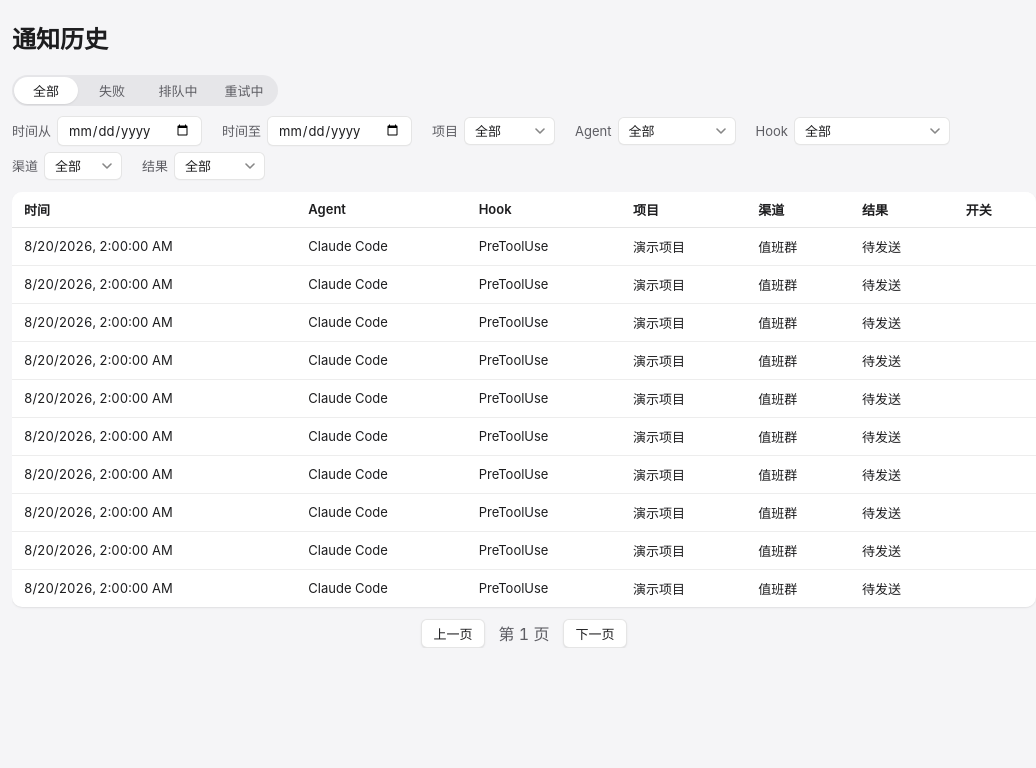
Test case: pagination pages through results with prev/next
Expected: the text "第 1 页" is shown, [498,621,550,645]
Expected: the button "上一页" is disabled, [422,619,484,648]
Step 1. Click the button "下一页" → click(595, 633), box [564,619,626,648]
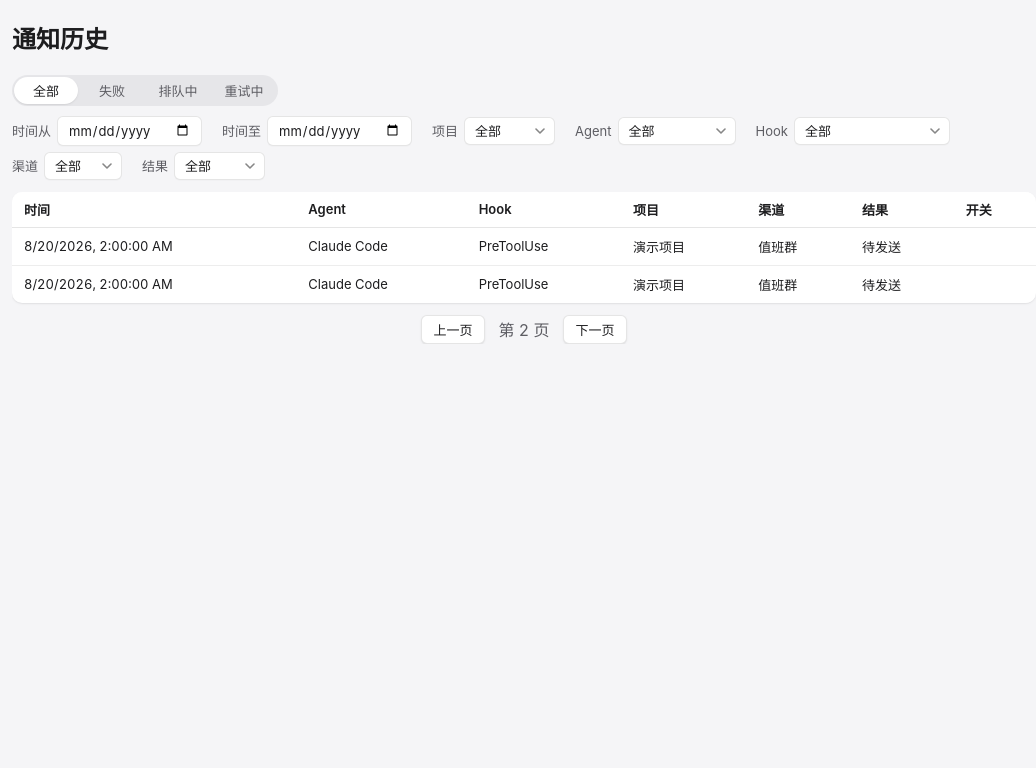
Expected: the text "第 2 页" is shown, [498,317,550,341]
Expected: the button "下一页" is disabled, [564,315,626,344]
Step 2. Click the button "上一页" → click(453, 329), box [422,315,484,344]
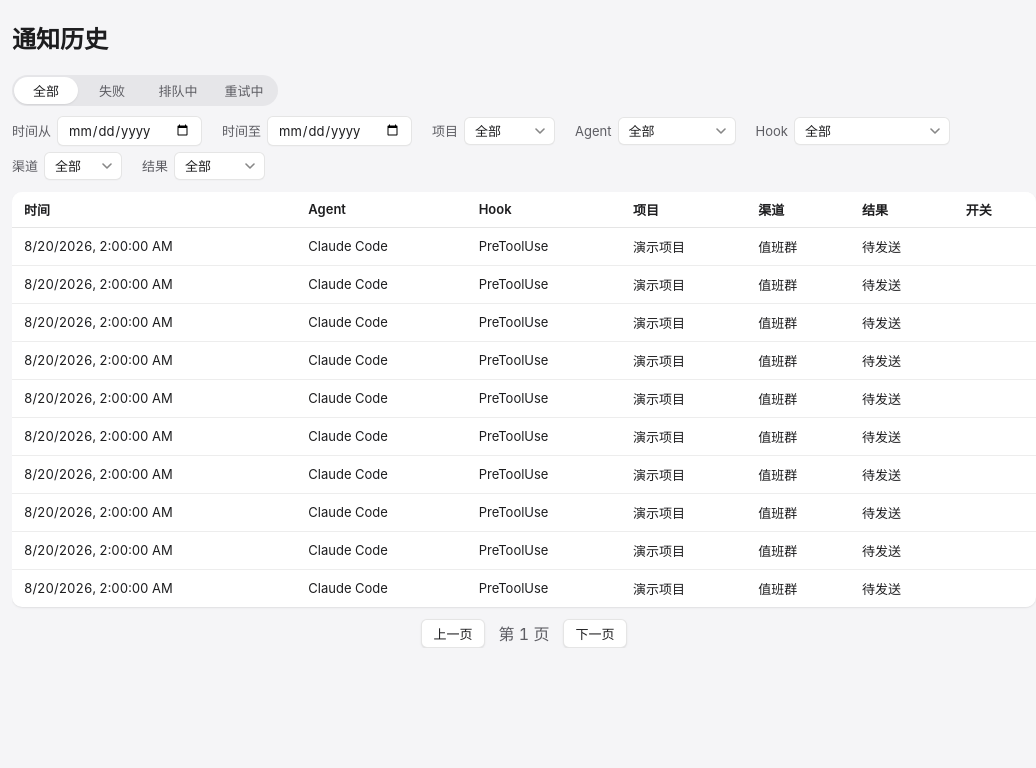
Expected: the text "第 1 页" is shown, [498,621,550,645]
